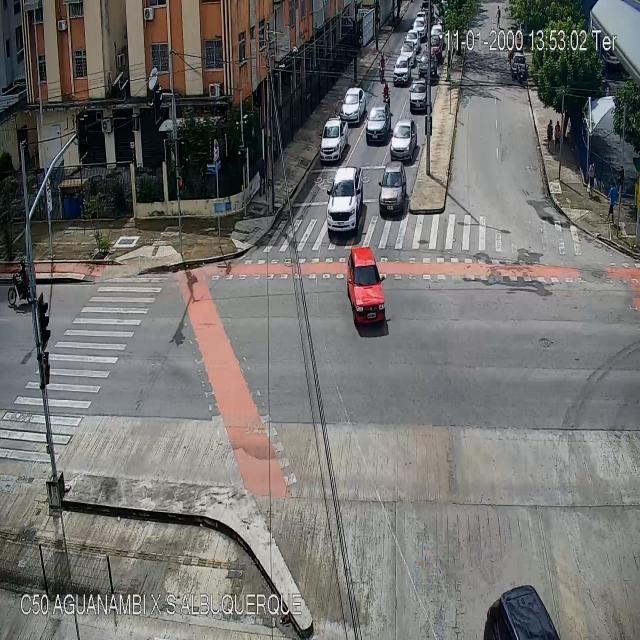Car: (474, 566, 564, 640), (346, 248, 389, 334), (327, 168, 367, 238), (378, 160, 408, 212), (319, 114, 349, 155), (389, 118, 420, 156), (340, 85, 367, 124), (366, 105, 390, 142), (410, 76, 428, 114), (418, 53, 437, 82), (426, 33, 442, 61), (395, 57, 410, 84), (511, 49, 526, 74), (404, 30, 420, 53), (432, 24, 446, 50), (412, 17, 427, 39), (400, 40, 413, 62)
Motorcycle: (7, 258, 36, 306), (378, 53, 387, 83), (381, 86, 391, 110), (516, 62, 522, 83)
